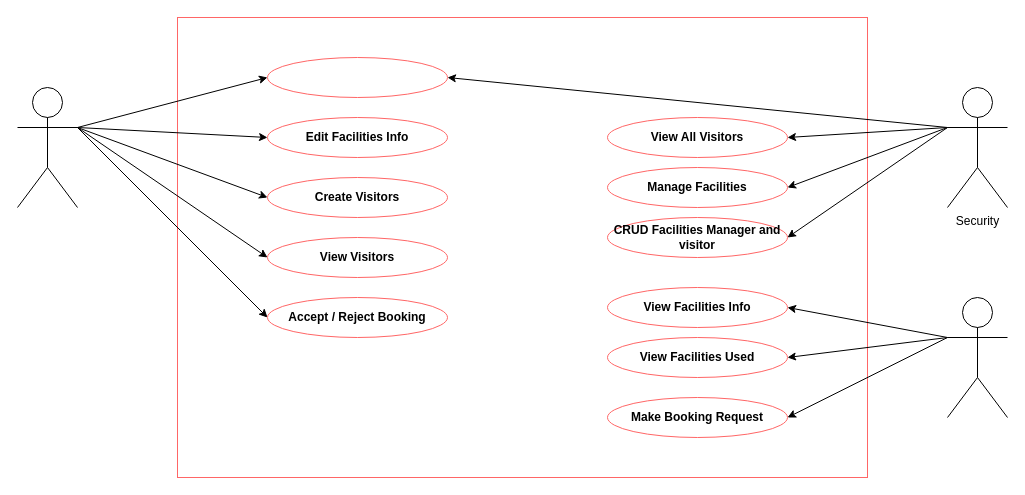
The diagram is 1025 pixels wide and 495 high, and some of its shapes have lost their labels. The shapes that lost their labels are listed below. From the top down, each one's centre as x and y in pixels, then its label:
At point (357, 77): "login/logout".
At point (47, 147): "Facilities Manager".
At point (977, 357): "Visitor".
